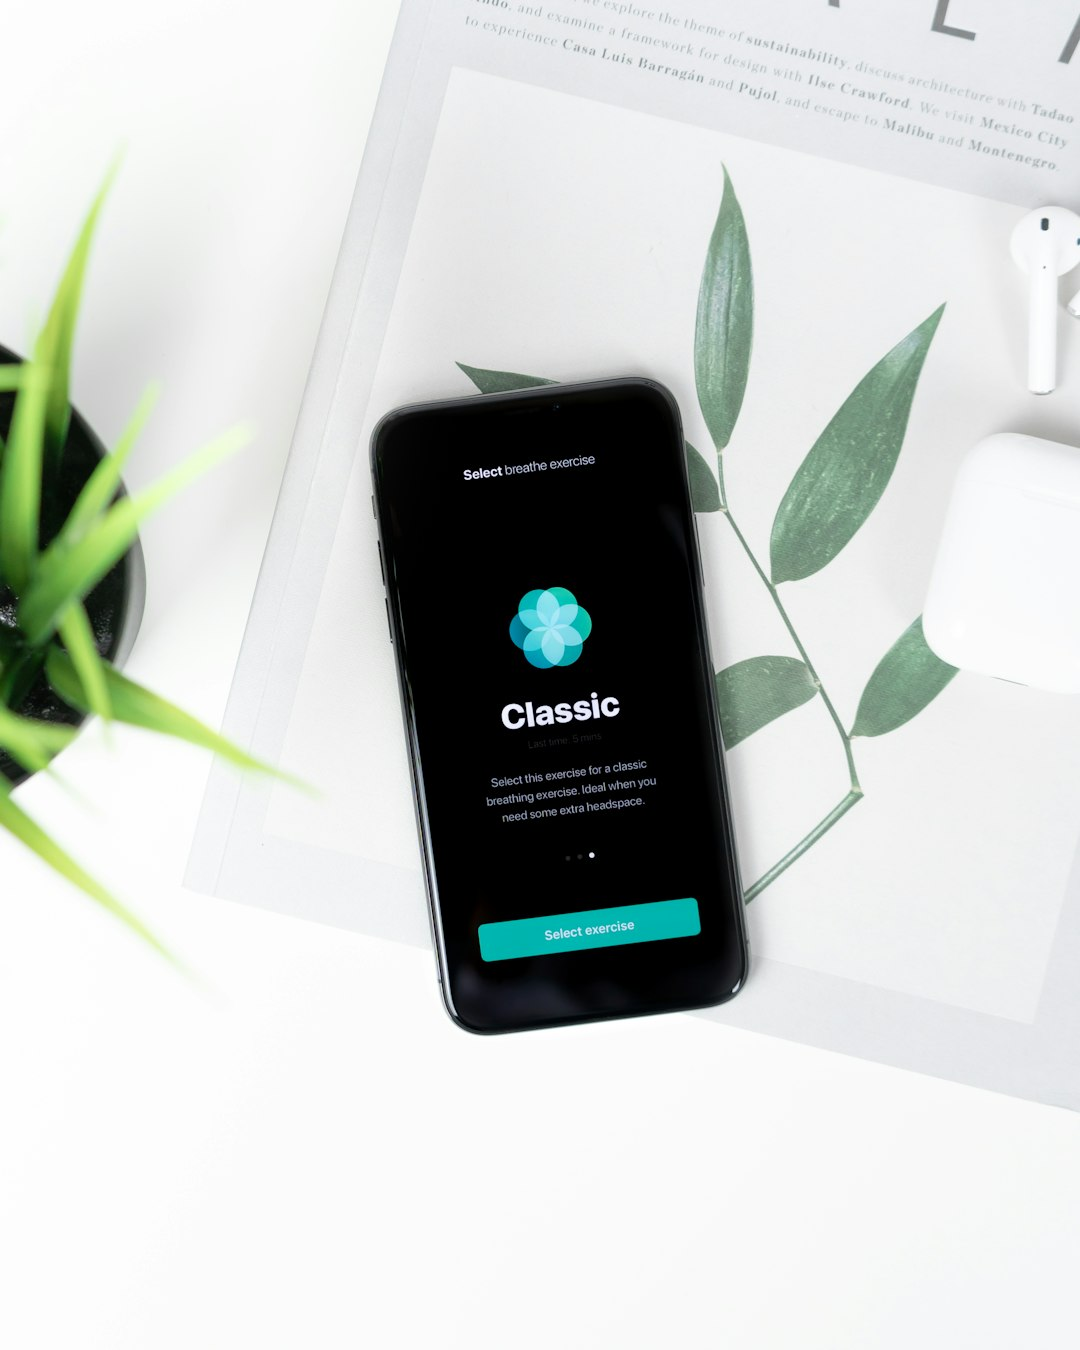phone: (370, 375, 749, 1034)
